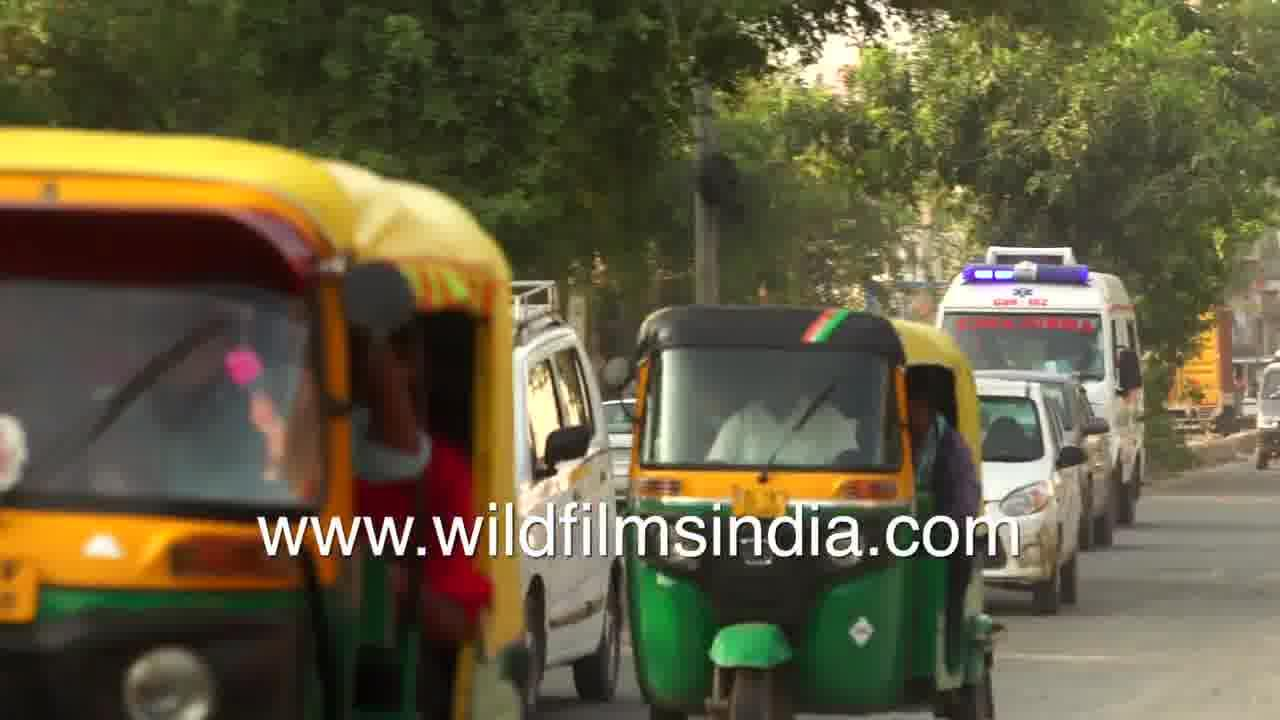AMBULANCE: (930, 237, 1158, 378)
